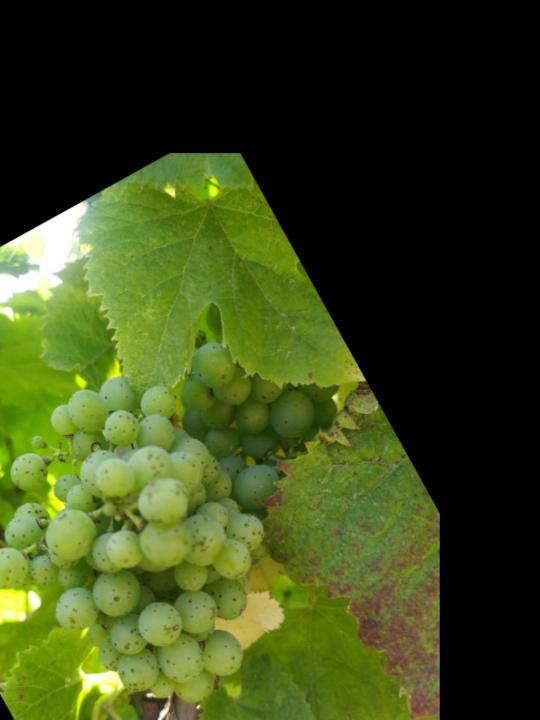grape: (0, 320, 364, 720)
